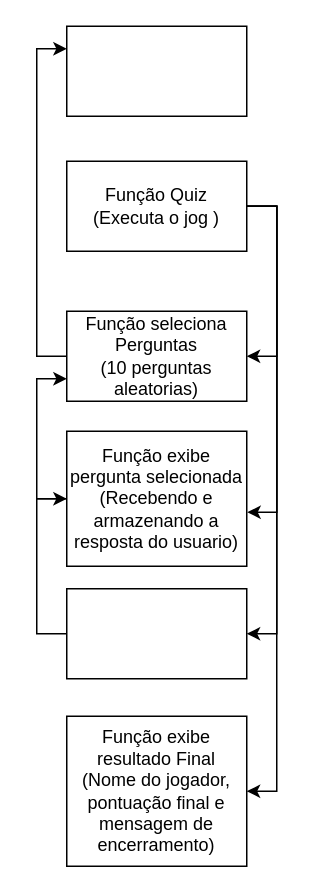
Image size: 315x893. Some labels were removed from this diagram. Here are the shapes that lost their labels. From the top down, the centre of each, then its label:
At pixel 156 70: "Coleção de dados (Armazena 30 perguntas)".
At pixel 156 633: "Função valida resposta (Verifica as respostas)".
